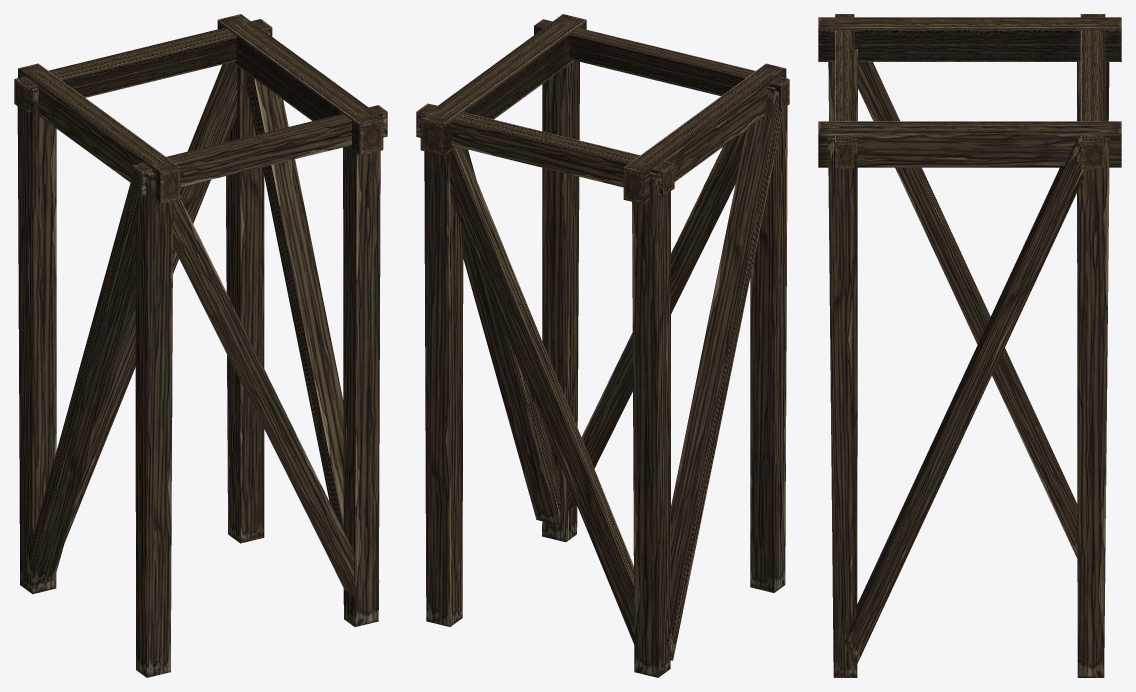
File: Wood_4X8X4_03.fbx
3 renders of one model, left to right at view 1: azimuth 30°, elevation 25°; view 2: azimuth 150°, elevation 25°; view 3: azimuth 270°, elevation 25°, orthographic. The views are drawn at different scales.
Parts seen in each view (by area): view 1: Wood_4X8X4_03; view 2: Wood_4X8X4_03; view 3: Wood_4X8X4_03.
Boxes of the visible parts, <box> form: Wood_4X8X4_03: <box>14,14,387,677</box>; Wood_4X8X4_03: <box>416,14,789,677</box>; Wood_4X8X4_03: <box>818,14,1121,677</box>.
Bounding box in the file's own units: 4 × 7.9 × 4.
